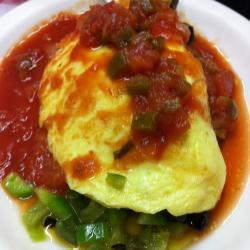omelette: (53, 26, 231, 217)
